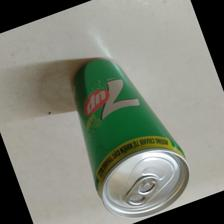7up: (69, 58, 191, 218)
